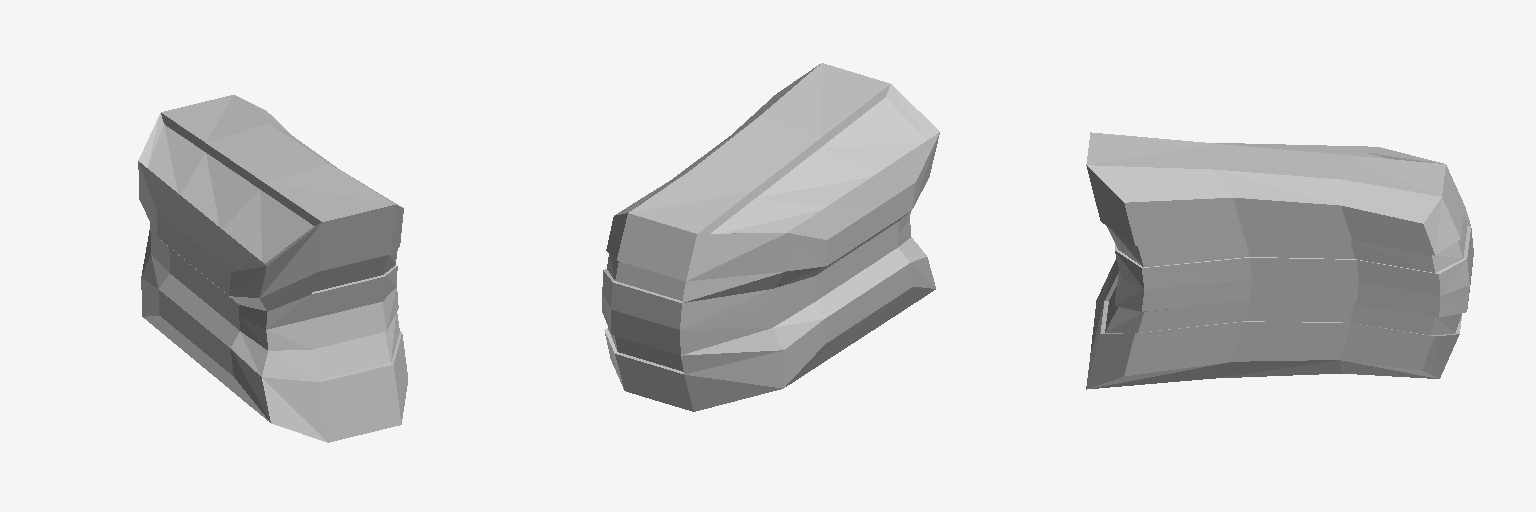
Rendered from backpack.obj.
3 renders of one model, left to right at view 1: azimuth 30°, elevation 25°; view 2: azimuth 150°, elevation 25°; view 3: azimuth 270°, elevation 25°, orthographic.
Visible parts, largest first — view 1: Cube_Cube.033; view 2: Cube_Cube.033; view 3: Cube_Cube.033.
Boxes of the visible parts, x1=… form: Cube_Cube.033: x1=138, y1=95, x2=407, y2=442; Cube_Cube.033: x1=602, y1=63, x2=939, y2=411; Cube_Cube.033: x1=1086, y1=132, x2=1473, y2=389.
Size of the model in its own units: 0.3516 by 0.4349 by 0.6838.